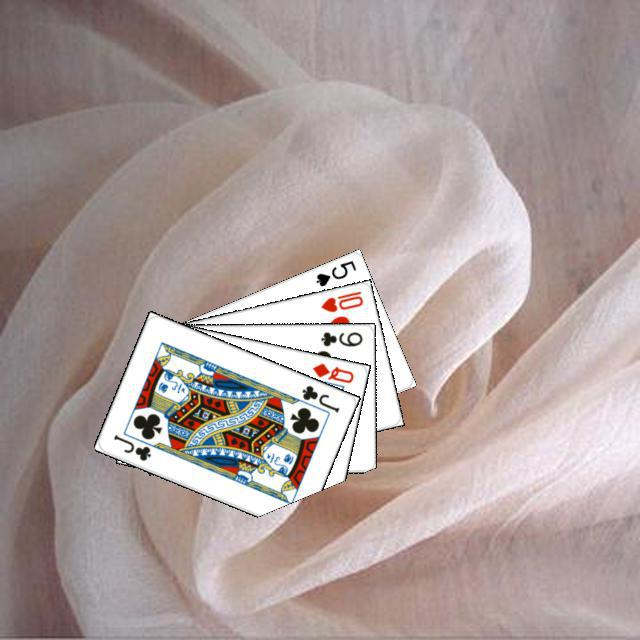10h: (316, 286, 365, 314)
5s: (311, 256, 358, 288)
9c: (316, 327, 364, 348)
Jc: (297, 380, 341, 414), (108, 430, 153, 463)
Qd: (308, 358, 355, 385)
